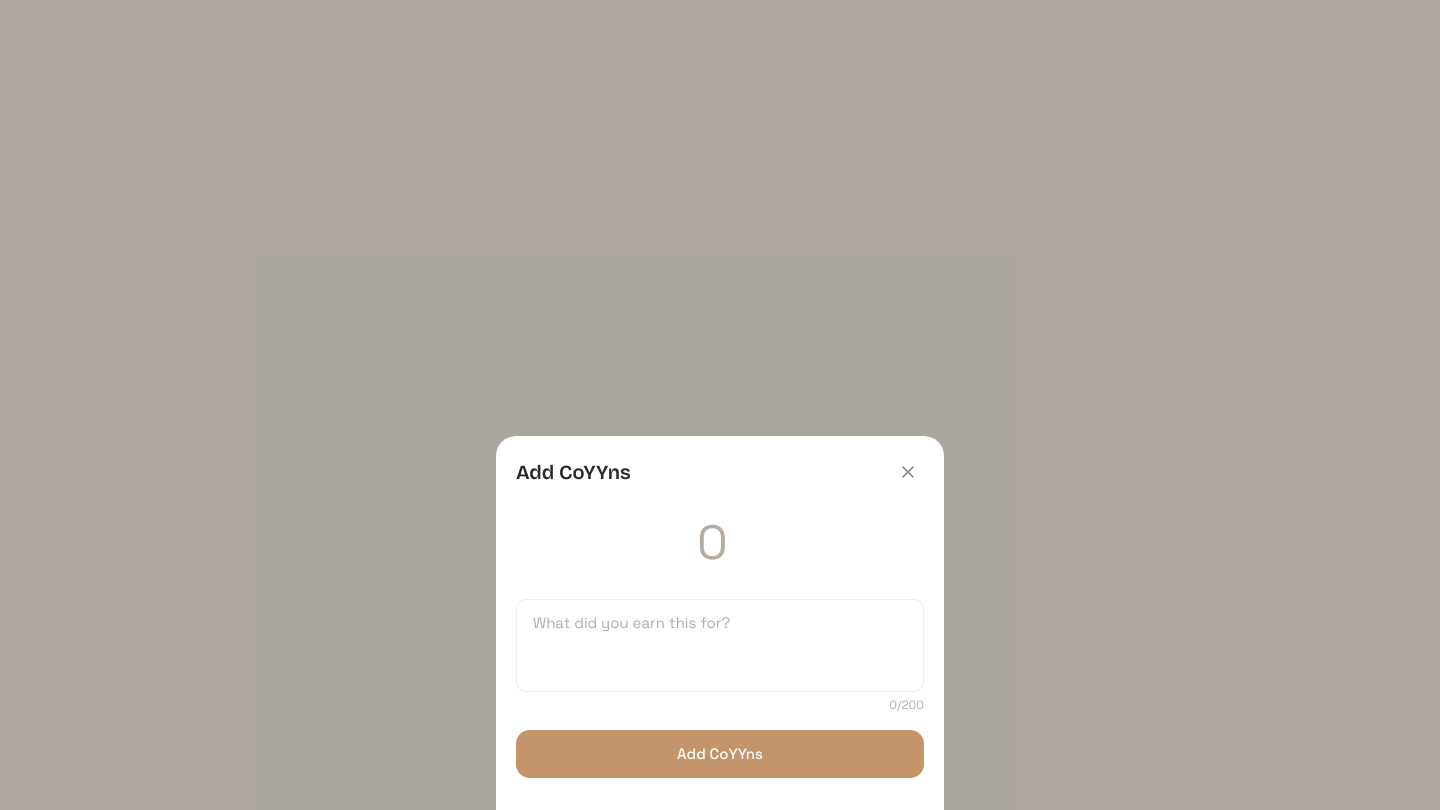
AddCoyynsForm › validates amount > 10000 shows error
Type "10001" into the number field with test id "add-amount-input" at (720, 547), box [516, 512, 924, 582]
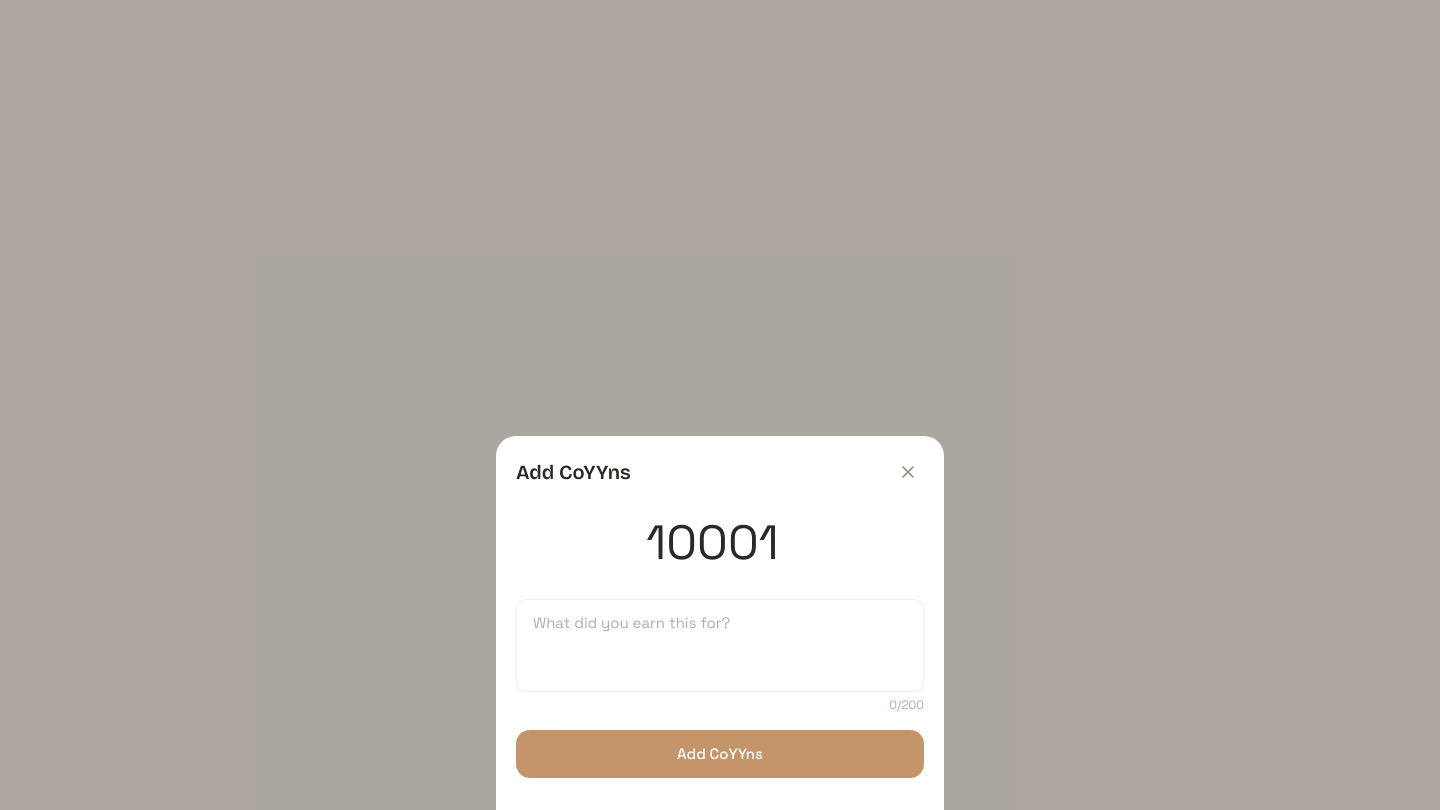
Leave the number field with test id "add-amount-input", box [516, 512, 924, 582]
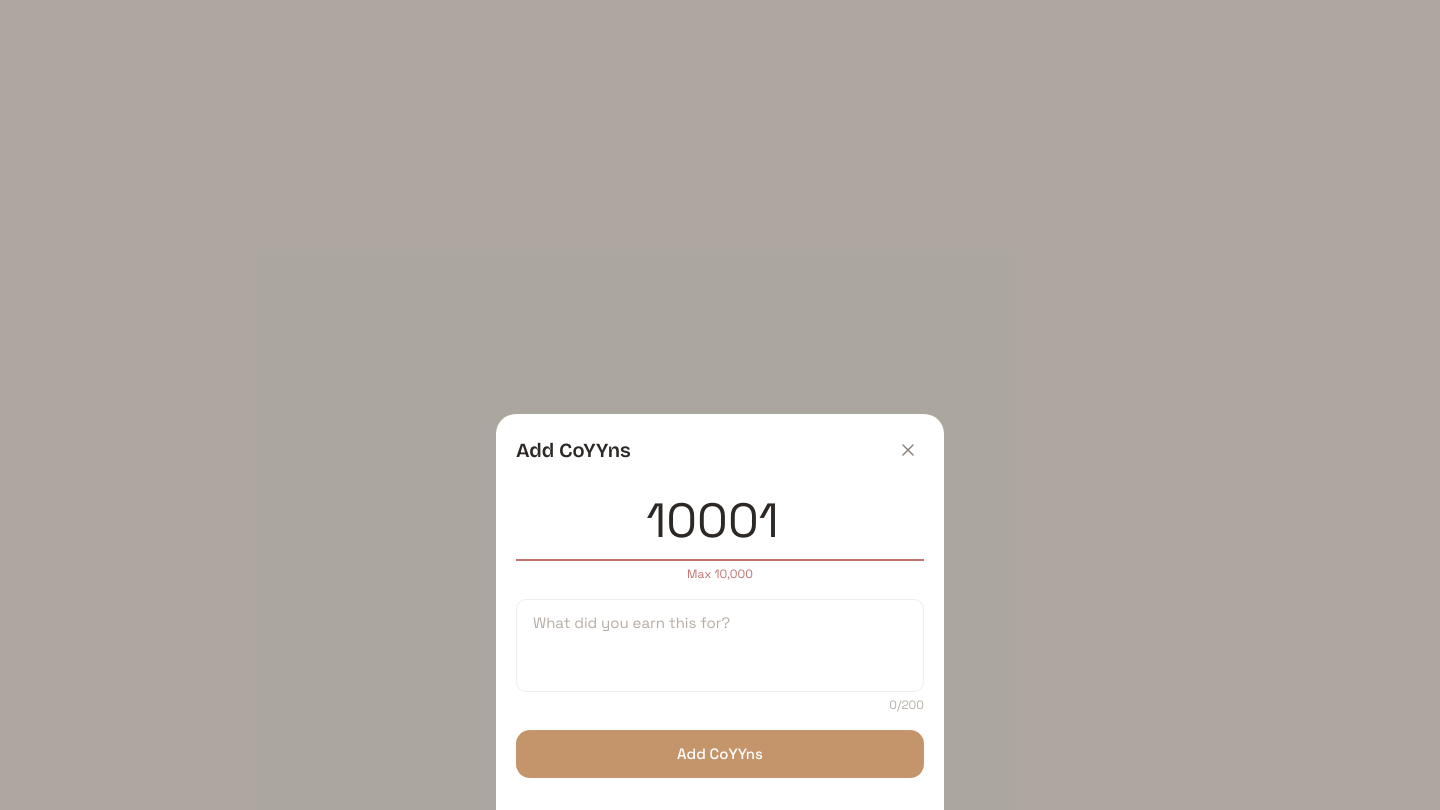
Expected: the text "Max 10,000" is shown, [687, 564, 753, 582]
